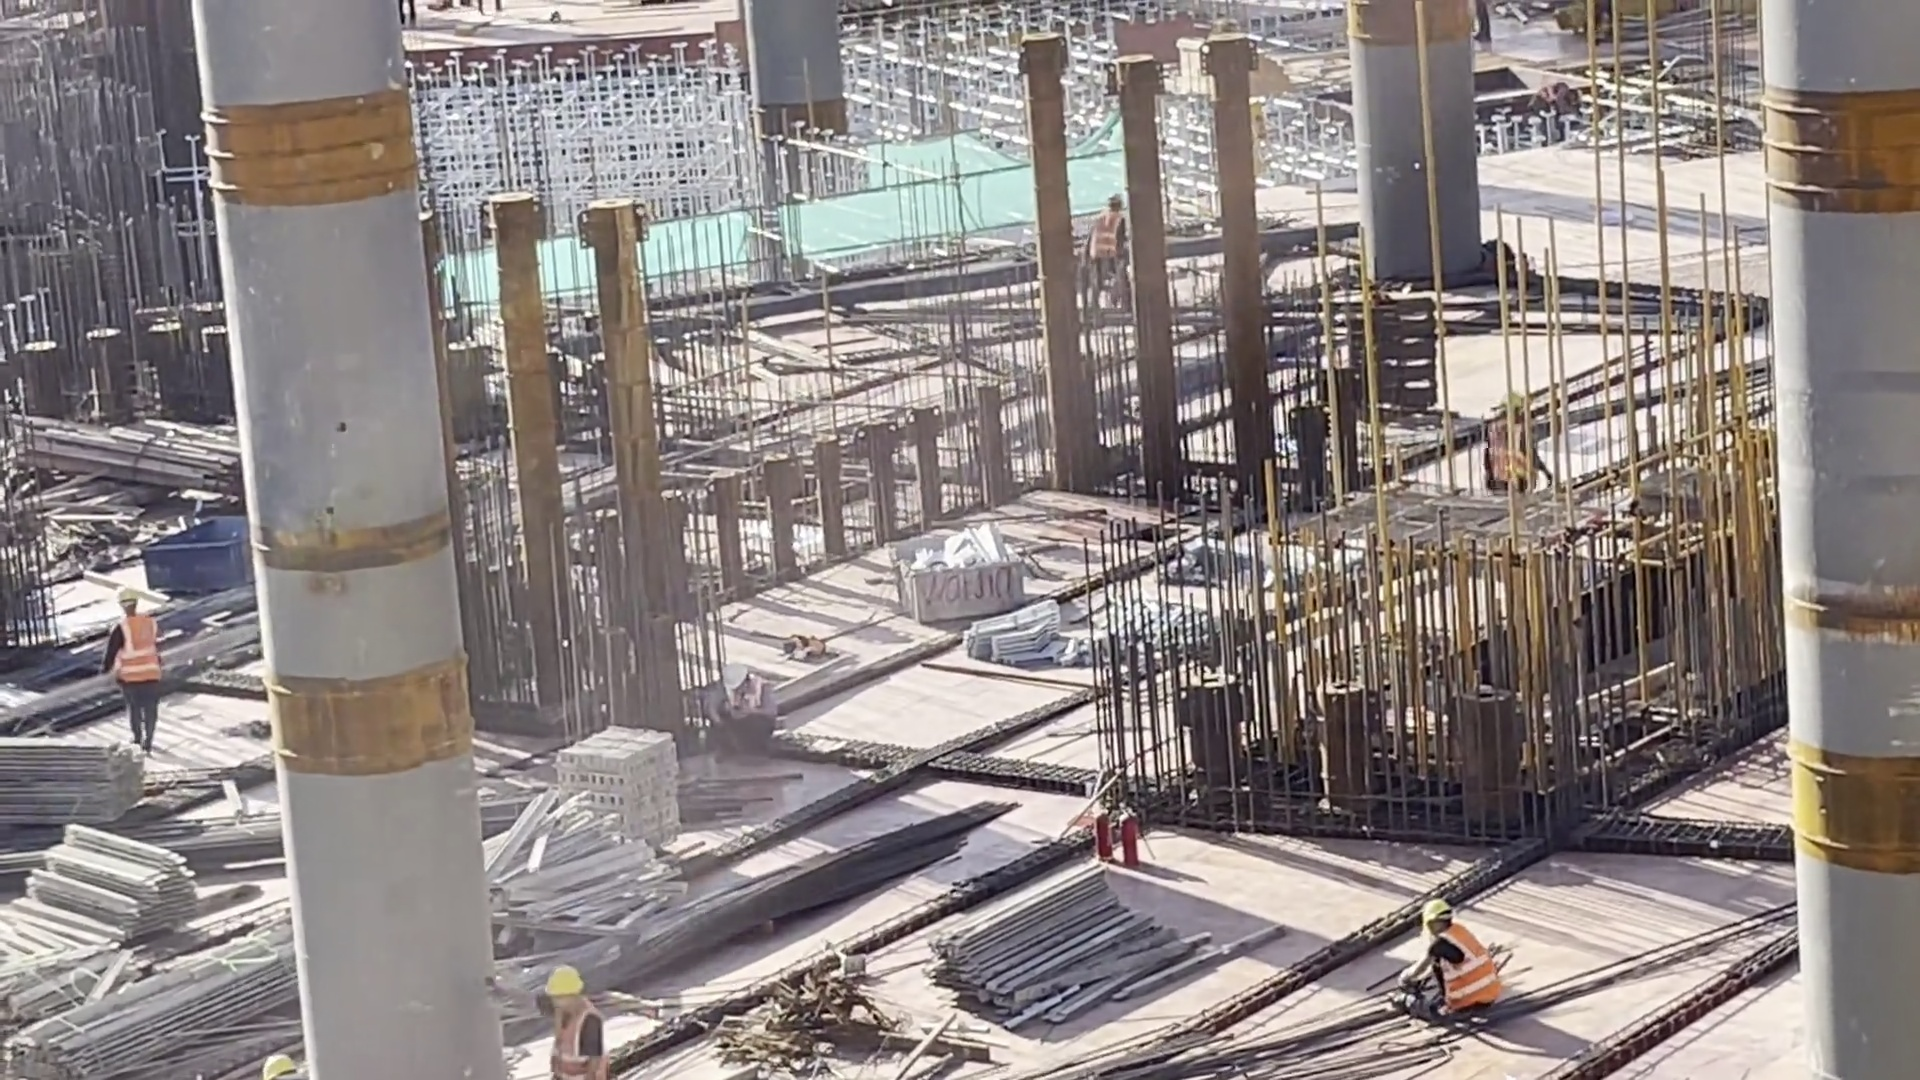helmet: (544, 958, 582, 1001), (1498, 388, 1536, 416), (1418, 893, 1451, 923), (719, 663, 749, 693), (114, 583, 140, 611), (1114, 187, 1125, 208)
hopper: (892, 530, 1049, 631), (138, 504, 258, 600)
person: (75, 569, 181, 742), (1395, 887, 1508, 1027), (517, 960, 611, 1080), (1082, 168, 1140, 323), (693, 663, 782, 760), (1489, 379, 1556, 498)
vest: (1417, 923, 1492, 1012), (104, 612, 169, 693), (552, 1006, 599, 1079), (1492, 419, 1534, 487), (1096, 206, 1126, 287)
wood: (936, 853, 1167, 1024), (25, 816, 207, 961), (1, 713, 147, 843)
